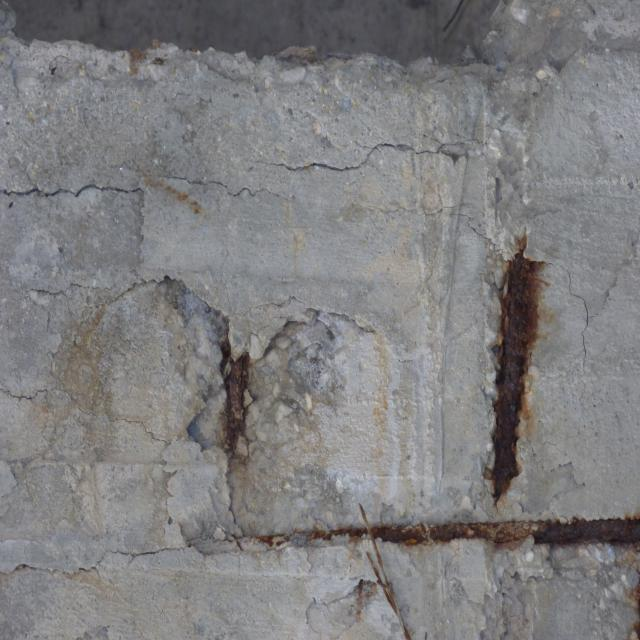corrosion: (244, 508, 640, 565), (482, 231, 552, 518), (212, 322, 272, 464), (141, 166, 215, 223), (124, 46, 153, 83)
